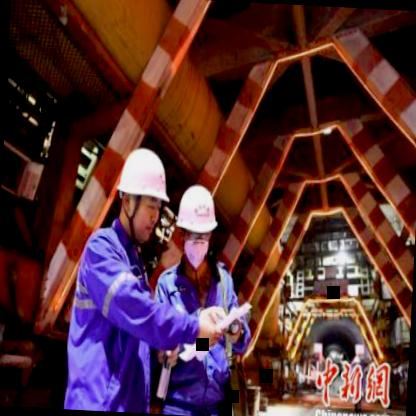helmet: (113, 144, 173, 248), (171, 180, 220, 266)
